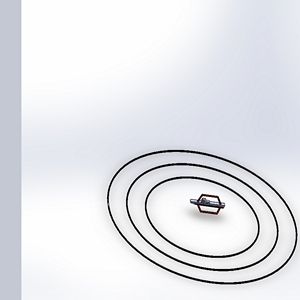circle: (102, 146, 299, 293)
submarine: (185, 189, 230, 224)
